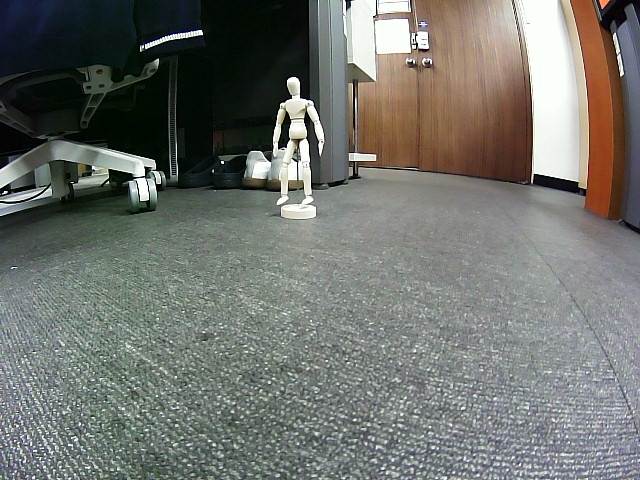person: (273, 74, 324, 205)
